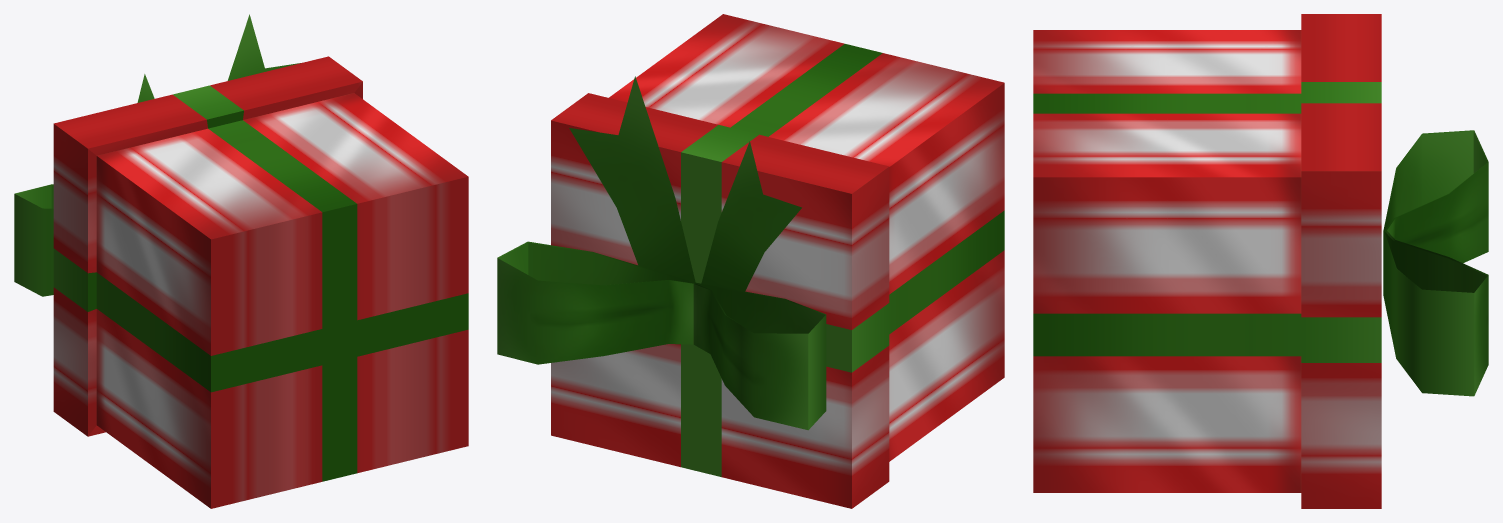
File: Present_A.fbx
3 renders of one model, left to right at view 1: azimuth 30°, elevation 25°; view 2: azimuth 150°, elevation 25°; view 3: azimuth 270°, elevation 25°, orthographic. The views are drawn at different scales.
Parts seen in each view (by area): view 1: Present_A; view 2: Present_A; view 3: Present_A.
Boxes of the visible parts, x1,y1,x2,y2 form: Present_A: (14, 14, 468, 508); Present_A: (497, 14, 1004, 508); Present_A: (1033, 14, 1488, 508).
Bounding box in the file's own units: 15.04 × 17.6 × 17.77.
